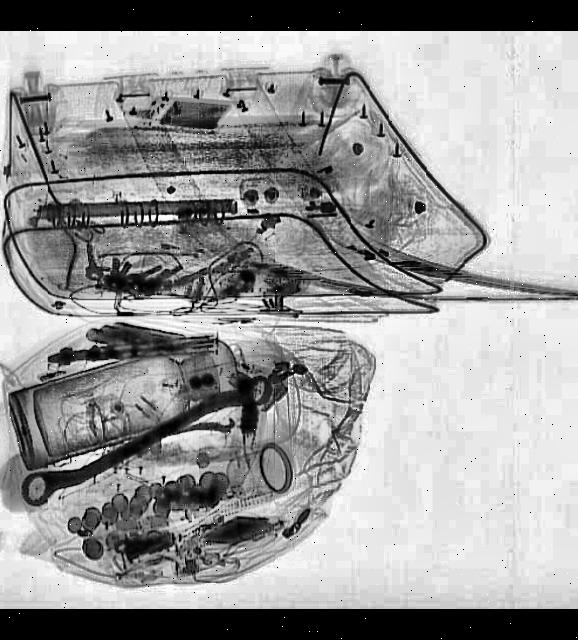Wrench: (16, 368, 280, 514)
